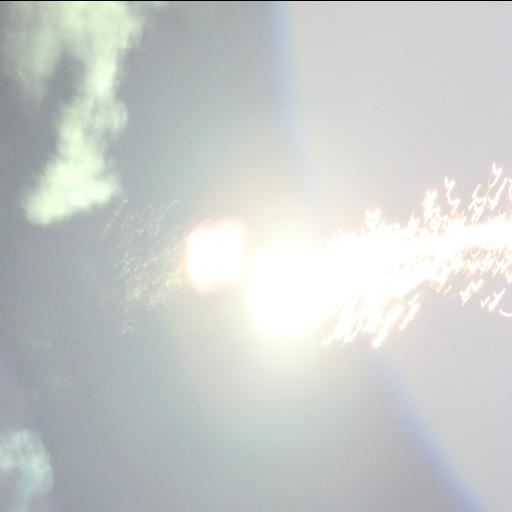la: (92, 490, 102, 508)
